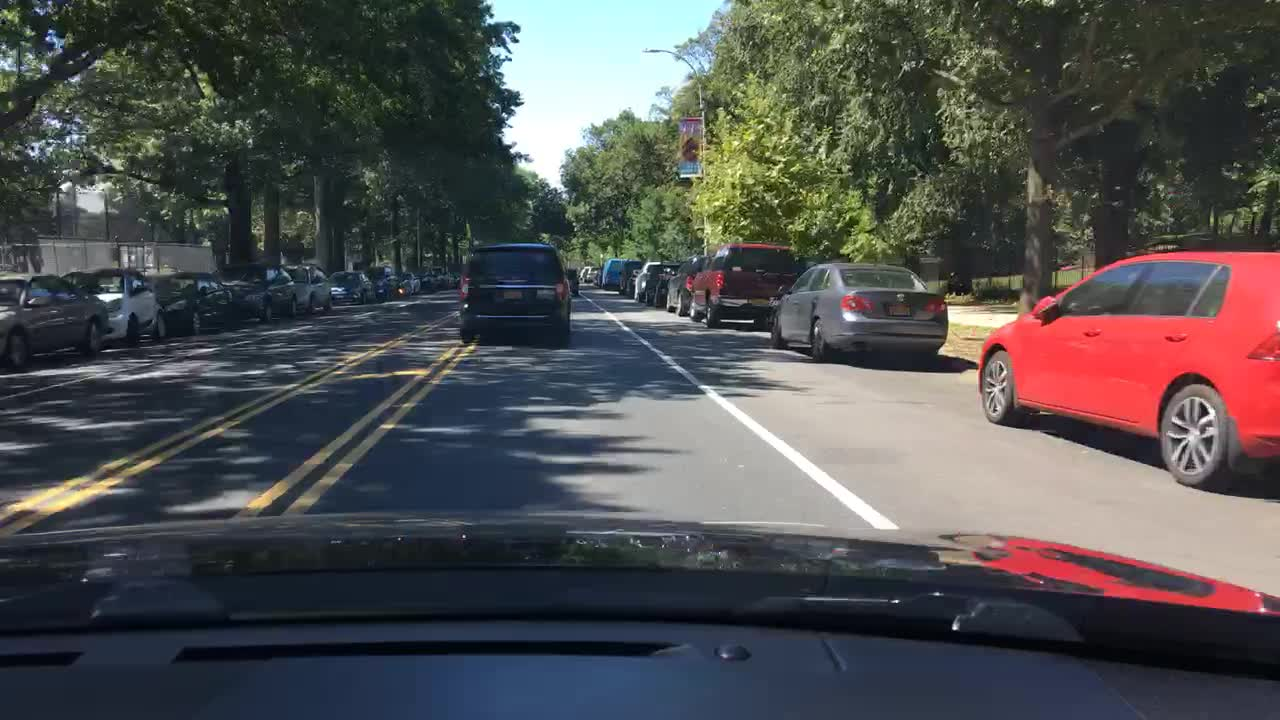car: (977, 248, 1278, 486), (767, 260, 947, 362), (460, 242, 570, 343), (0, 273, 109, 369), (687, 241, 802, 329), (61, 267, 166, 342), (145, 272, 237, 332), (214, 263, 300, 319), (665, 255, 712, 316), (282, 264, 333, 313), (632, 262, 676, 302), (326, 270, 375, 302), (598, 257, 629, 289), (617, 259, 640, 294), (418, 267, 445, 290), (375, 275, 402, 298), (653, 273, 670, 307), (626, 268, 644, 297), (399, 272, 418, 292), (566, 267, 578, 294), (587, 265, 599, 283), (446, 272, 459, 287), (578, 265, 589, 278)
